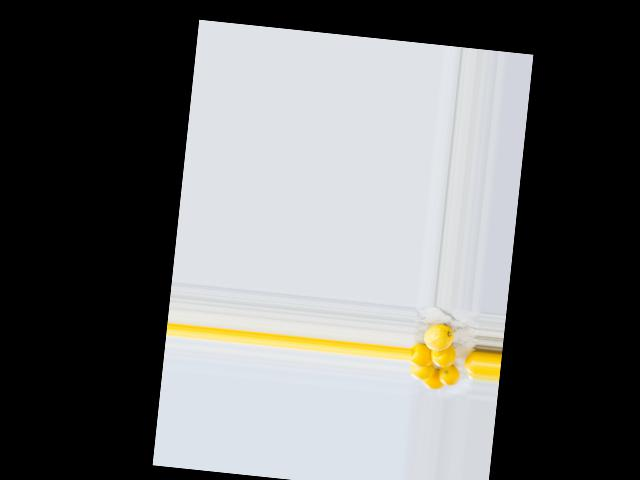lemon: (419, 322, 459, 354)
